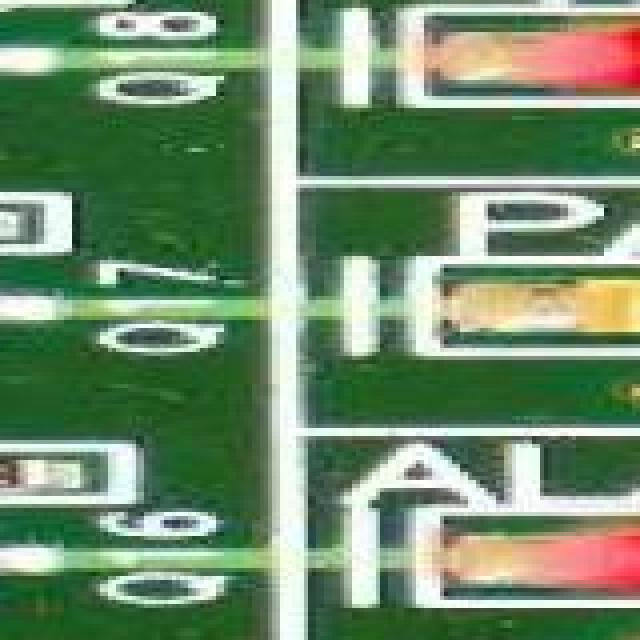LED: (384, 256, 640, 340), (452, 12, 640, 96), (464, 508, 640, 588)
resistor: (0, 444, 140, 496), (0, 188, 72, 240), (592, 608, 640, 640)
transistor: (0, 252, 92, 368), (0, 496, 28, 604), (0, 0, 24, 124)
